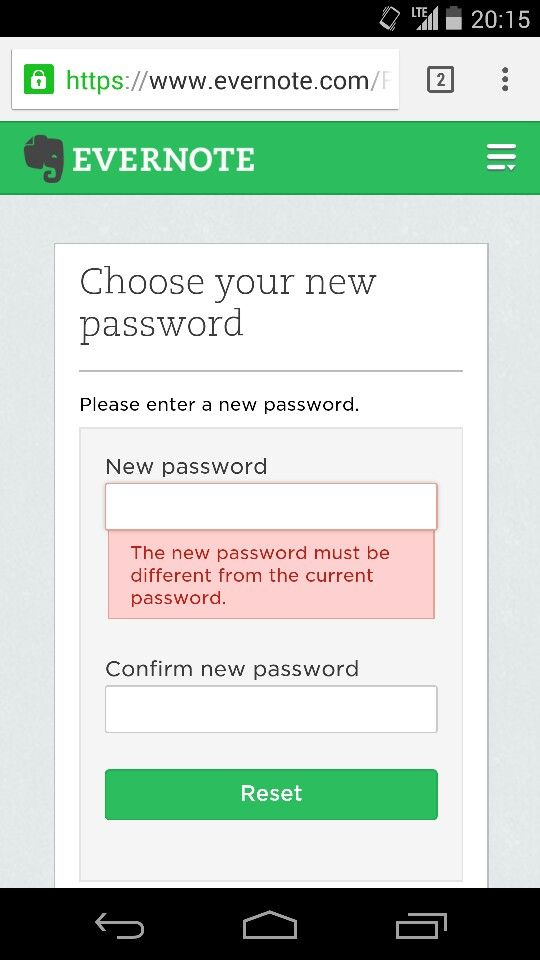error_message: (125, 536, 398, 611)
